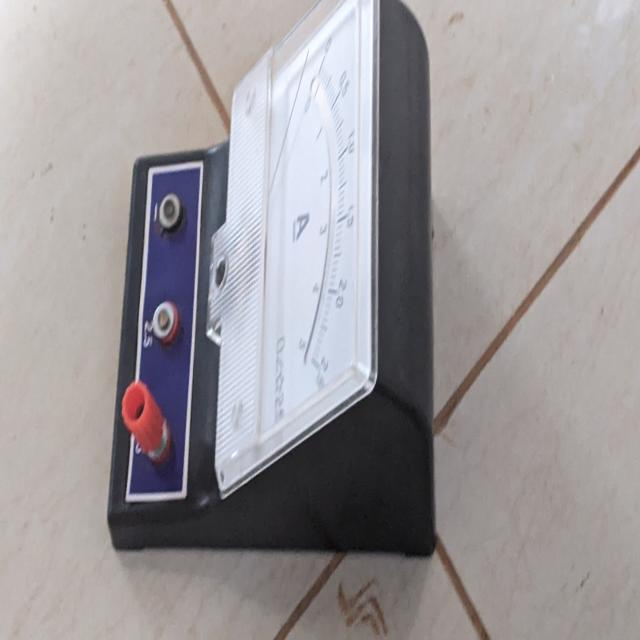Ammeter Analog: (104, 7, 443, 568)
